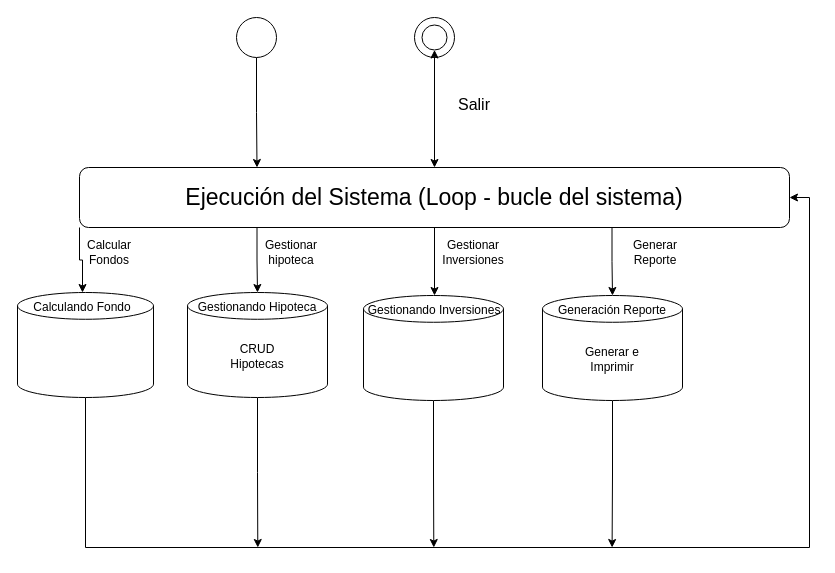
This 835x573 diagram has some shape labels left out. The box of each missing label's shape, as (x1, y1, x2, y2) in pixels:
CRUD Inversiones: (362, 294, 504, 400)
Mostrar el calculo de los fondos: (16, 292, 154, 398)
